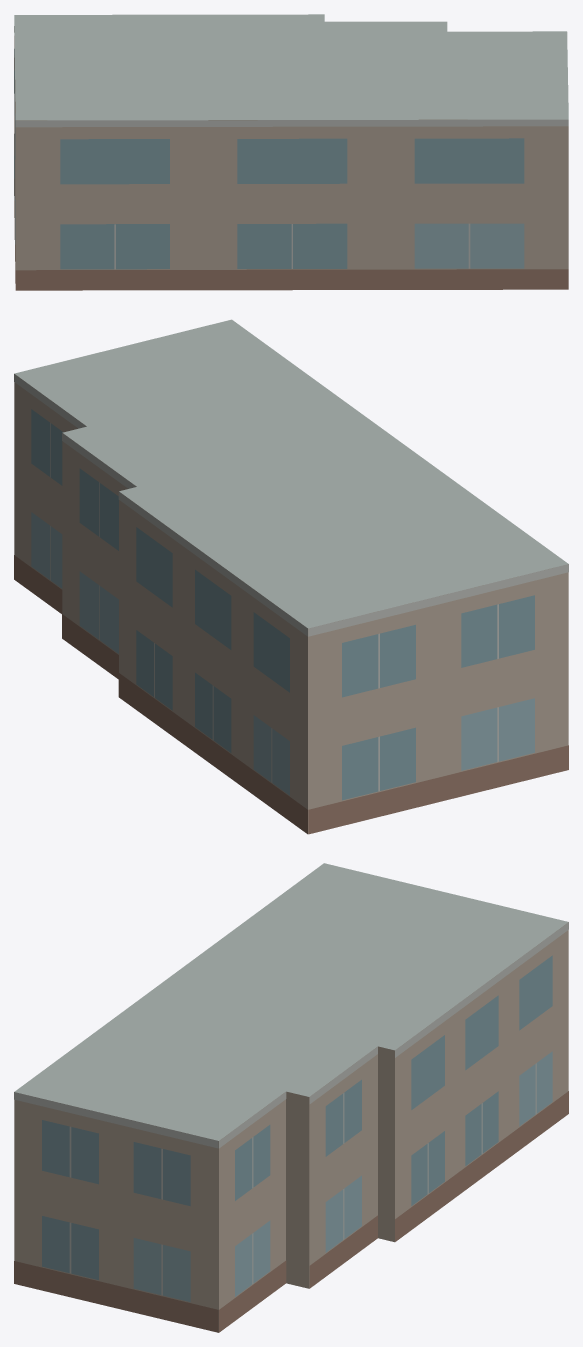
File: survey-upis-32782764.glb
3 renders of one model, top to bottom at view 1: azimuth 30°, elevation 25°; view 2: azimuth 150°, elevation 25°; view 3: azimuth 270°, elevation 25°, orthographic. The views are drawn at different scales.
Visible parts, largest first — view 1: survey-upis-32782764.tmp; view 2: survey-upis-32782764.tmp; view 3: survey-upis-32782764.tmp.
Part boxes in pixels (x1=…): survey-upis-32782764.tmp: x1=14, y1=14, x2=568, y2=290; survey-upis-32782764.tmp: x1=14, y1=319, x2=568, y2=834; survey-upis-32782764.tmp: x1=14, y1=863, x2=568, y2=1332.
Size of the model in its own units: 18.96 by 6.1 by 15.99.
